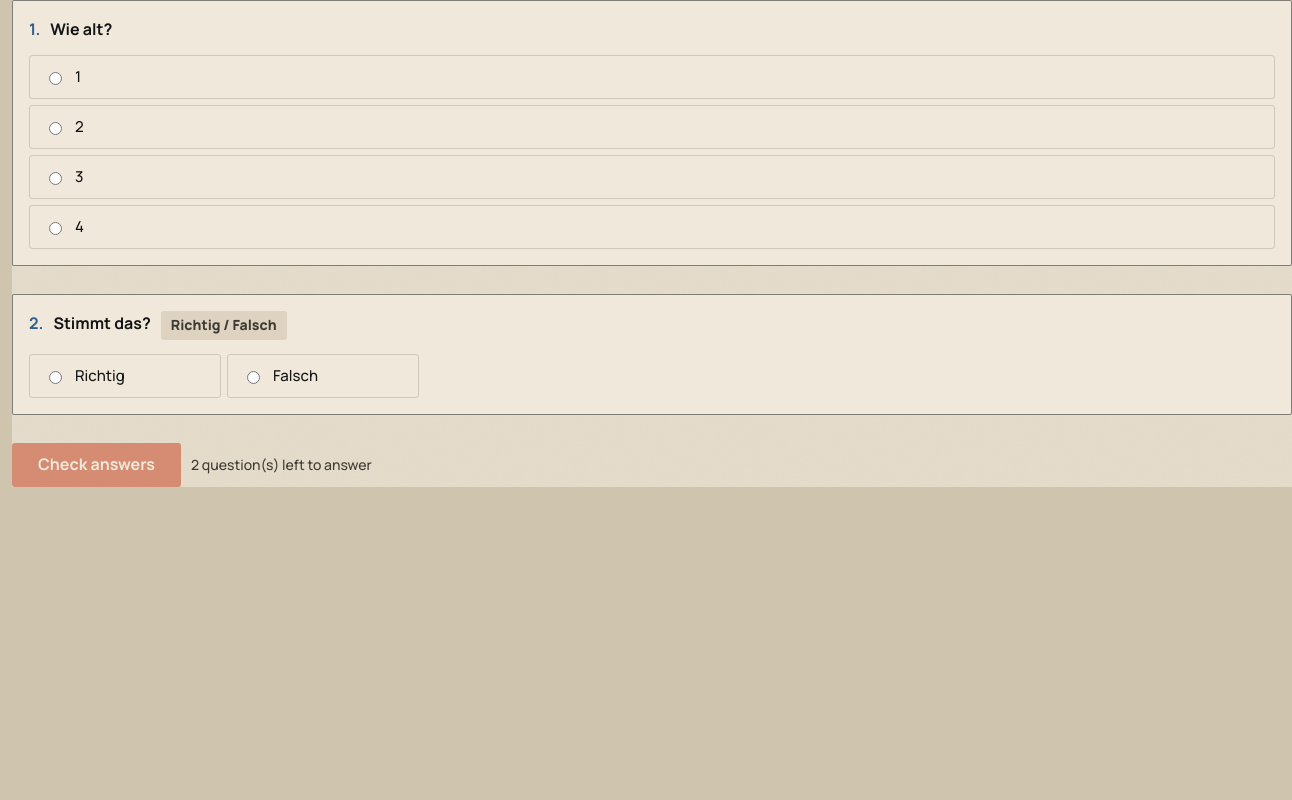
Quiz › scores the answers and shows corrections
Check: the button "Check answers" is disabled, box [12,443,181,487]
Click the radio button labelled "3" at (56, 179), box [49,172,62,186]
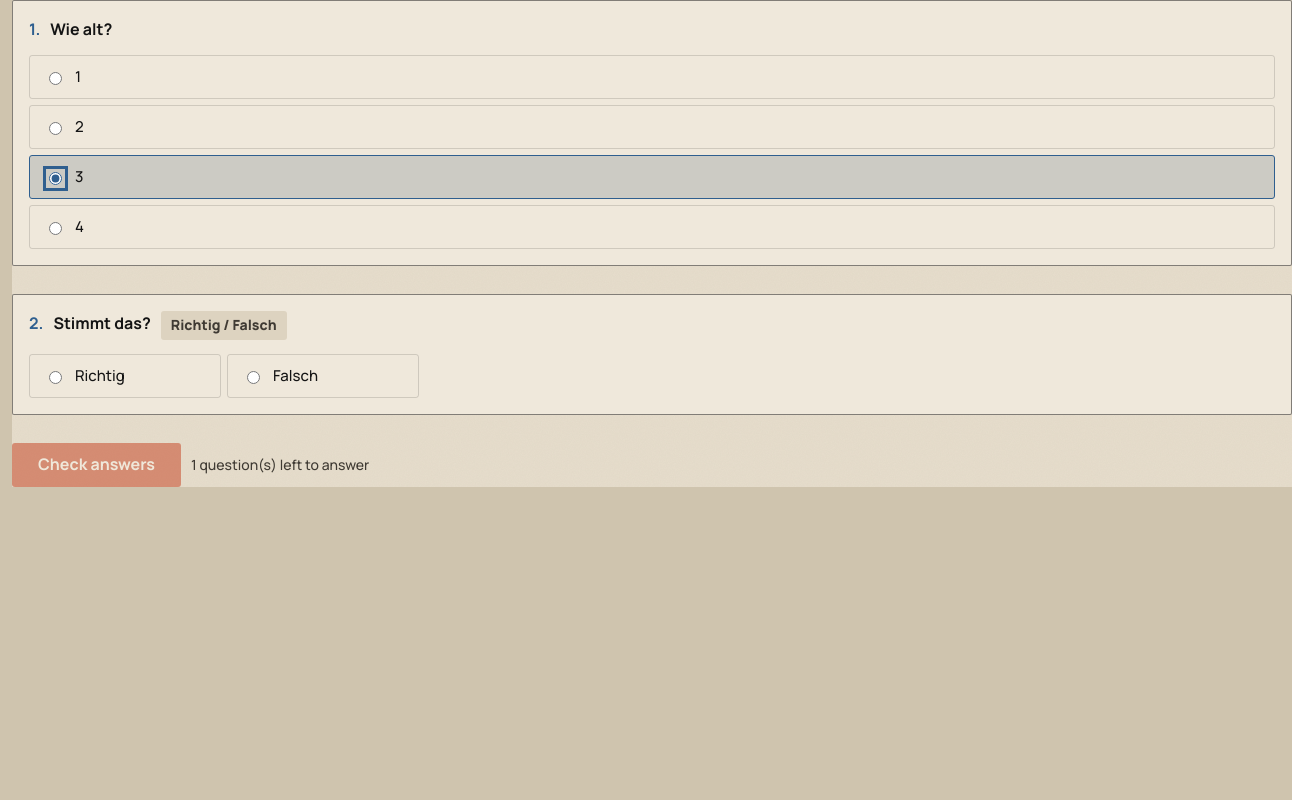
Click the radio button labelled "Richtig" at (56, 378), box [49,371,62,384]
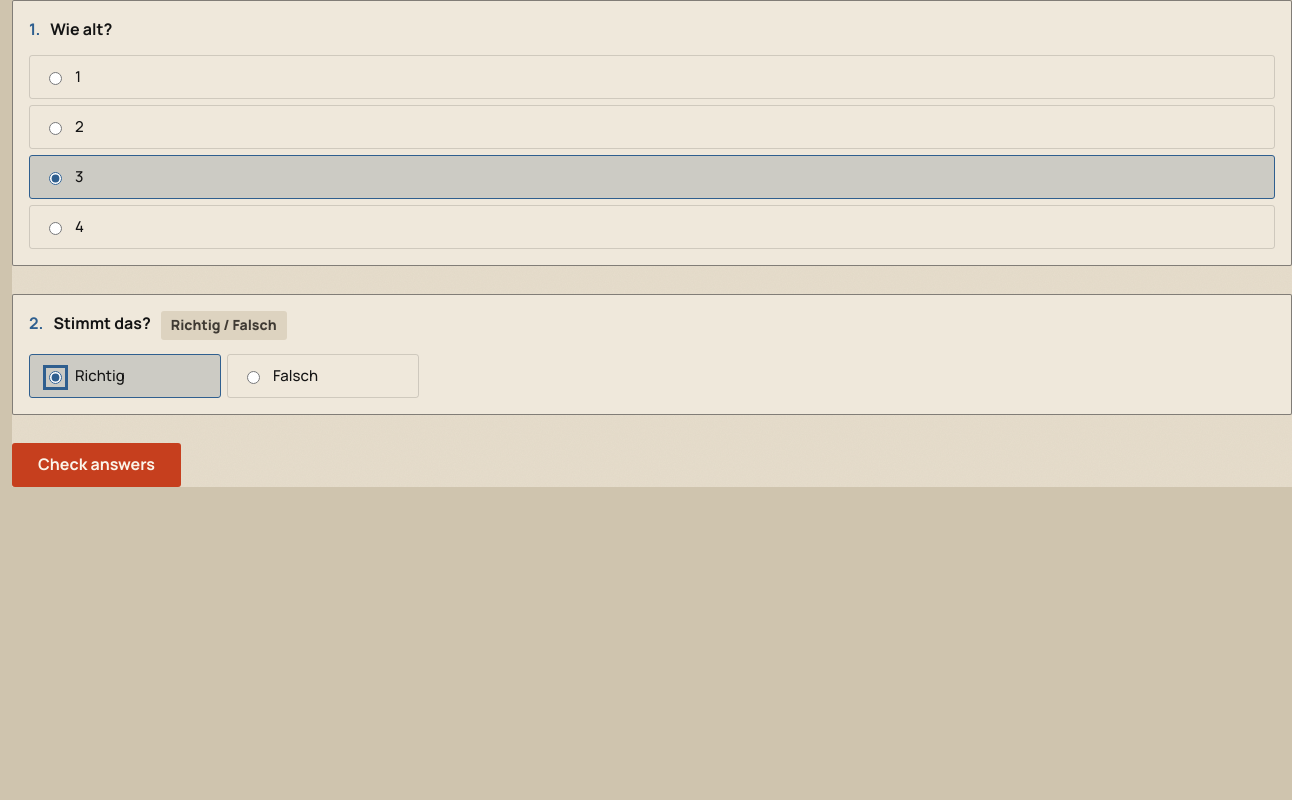
Click the button "Check answers" at (96, 465), box [12,443,181,487]
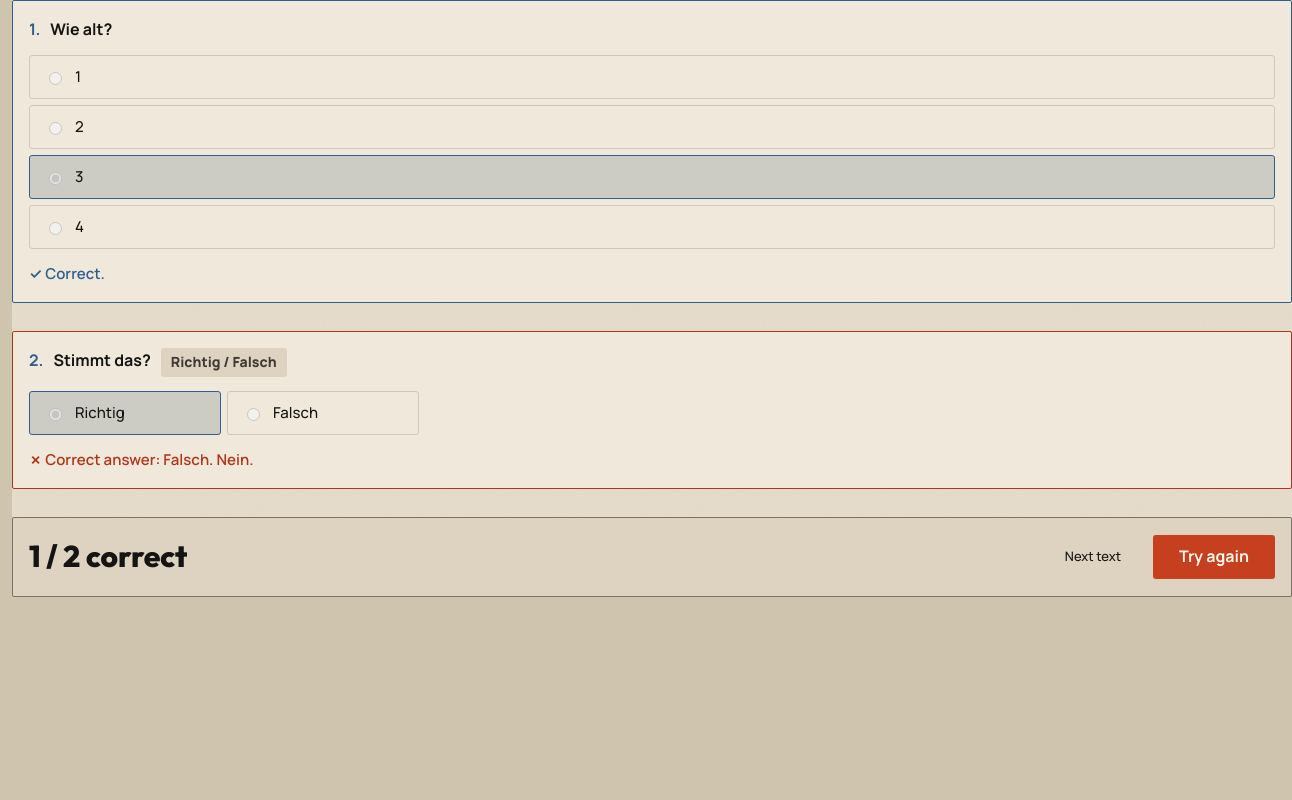
Check: the text "1 / 2 correct" is shown, box [29,534,187,580]
Check: the text "✗ Correct answer: Falsch. Nein." is shown, box [29,449,254,470]
